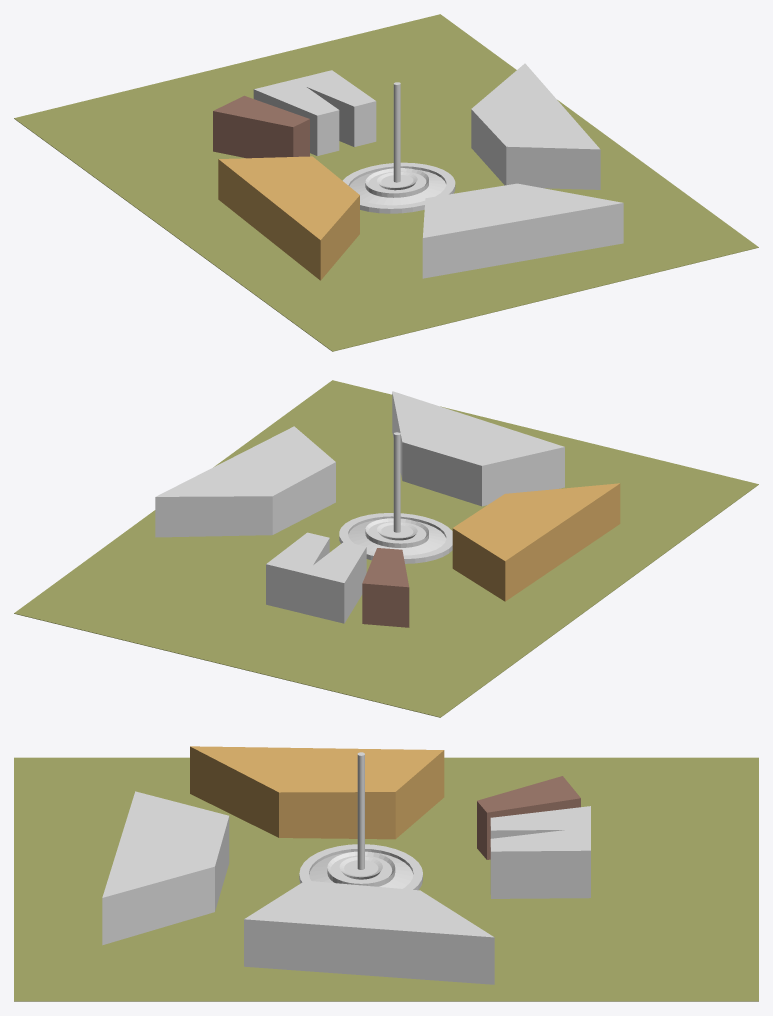
Rendered from police bazaar.glb.
3 renders of one model, top to bottom at view 1: azimuth 30°, elevation 25°; view 2: azimuth 150°, elevation 25°; view 3: azimuth 270°, elevation 25°, orthographic. The views are drawn at different scales.
Parts seen in each view (by area): view 1: Cube, Cube.003, Cube.002, Cube.004, Cube.001, Cylinder, Cube.006, Cube.005; view 2: Cube, Cube.004, Cube.002, Cube.003, Cylinder, Cube.005, Cube.001, Cube.006; view 3: Cube, Cube.004, Cube.002, Cube.003, Cube.006, Cylinder, Cube.001, Cube.005.
Boxes of the visible parts, box(x1,y1,x2,y2) form: Cube: box(14, 14, 758, 351); Cube.003: box(422, 183, 623, 278); Cube.002: box(218, 156, 359, 280); Cube.004: box(471, 63, 600, 189); Cube.001: box(213, 95, 309, 158); Cylinder: box(342, 82, 455, 213); Cube.006: box(291, 70, 376, 146); Cube.005: box(253, 79, 339, 155); Cube: box(14, 380, 758, 717); Cube.004: box(155, 426, 335, 537); Cube.002: box(452, 483, 620, 601); Cube.003: box(392, 391, 564, 506); Cylinder: box(339, 432, 452, 563); Cube.005: box(303, 541, 366, 623); Cube.001: box(362, 548, 409, 627); Cube.006: box(266, 532, 329, 613); Cube: box(14, 757, 758, 1001); Cube.004: box(244, 880, 494, 984); Cube.002: box(190, 746, 444, 839); Cube.003: box(102, 791, 229, 945); Cube.006: box(490, 827, 590, 898); Cylinder: box(299, 752, 422, 890); Cube.001: box(477, 776, 580, 859); Cube.005: box(490, 806, 590, 838).
Size of the model in its own units: 100 by 24.62 by 130.
